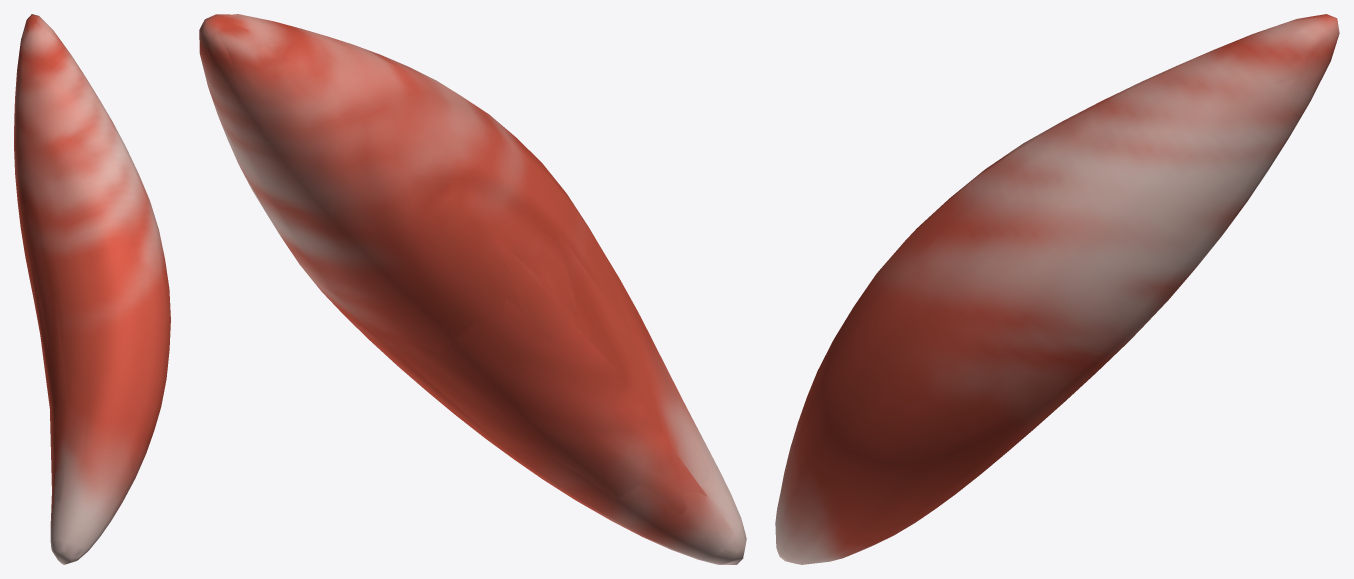
The model's file is R vastus medialis.fbx.
The picture shows the model from 3 angles, left to right: view 1: azimuth 30°, elevation 25°; view 2: azimuth 150°, elevation 25°; view 3: azimuth 270°, elevation 25°; orthographic projection. The views are drawn at different scales.
Visible parts, largest first — view 1: R vastus medialis, R vastus medialis low; view 2: R vastus medialis, R vastus medialis low; view 3: R vastus medialis, R vastus medialis low.
Boxes of the visible parts, left/top/right/bottom form: R vastus medialis: left=14, top=14, right=170, bottom=564; R vastus medialis low: left=21, top=16, right=164, bottom=561; R vastus medialis: left=199, top=14, right=746, bottom=564; R vastus medialis low: left=202, top=14, right=744, bottom=564; R vastus medialis: left=775, top=14, right=1338, bottom=564; R vastus medialis low: left=777, top=14, right=1339, bottom=553.
Size of the model in its own units: 4.75 by 10.31 by 8.13.
